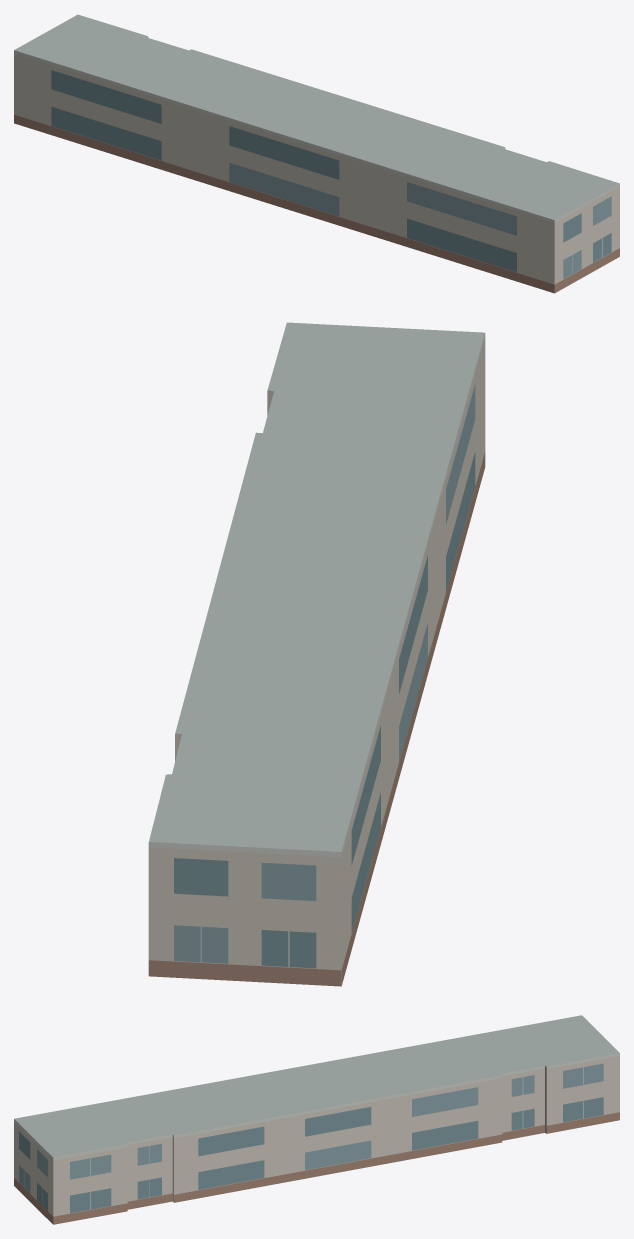
File: survey-upis-32509048.glb
3 views of the same model, one above another, from view 1: azimuth 30°, elevation 25°; view 2: azimuth 150°, elevation 25°; view 3: azimuth 270°, elevation 25° (orthographic). The views are drawn at different scales.
Parts seen in each view (by area): view 1: survey-upis-32509048.tmp; view 2: survey-upis-32509048.tmp; view 3: survey-upis-32509048.tmp.
Part boxes in pixels (box(x1,y1,x2,y2)): survey-upis-32509048.tmp: box(14, 14, 619, 293); survey-upis-32509048.tmp: box(148, 322, 485, 986); survey-upis-32509048.tmp: box(14, 1015, 619, 1224).
Bounding box in the file's own units: 27.71 × 6.1 × 49.83.
